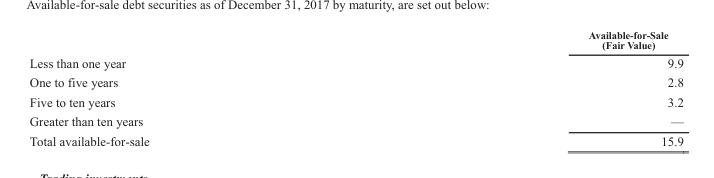table: (28, 28, 682, 147)
table column: (28, 28, 368, 147), (368, 28, 682, 147)
table column header: (28, 28, 682, 53)
table row: (28, 28, 682, 53), (28, 91, 682, 111), (28, 53, 682, 72), (28, 72, 682, 91), (28, 111, 682, 130), (28, 130, 682, 147)
